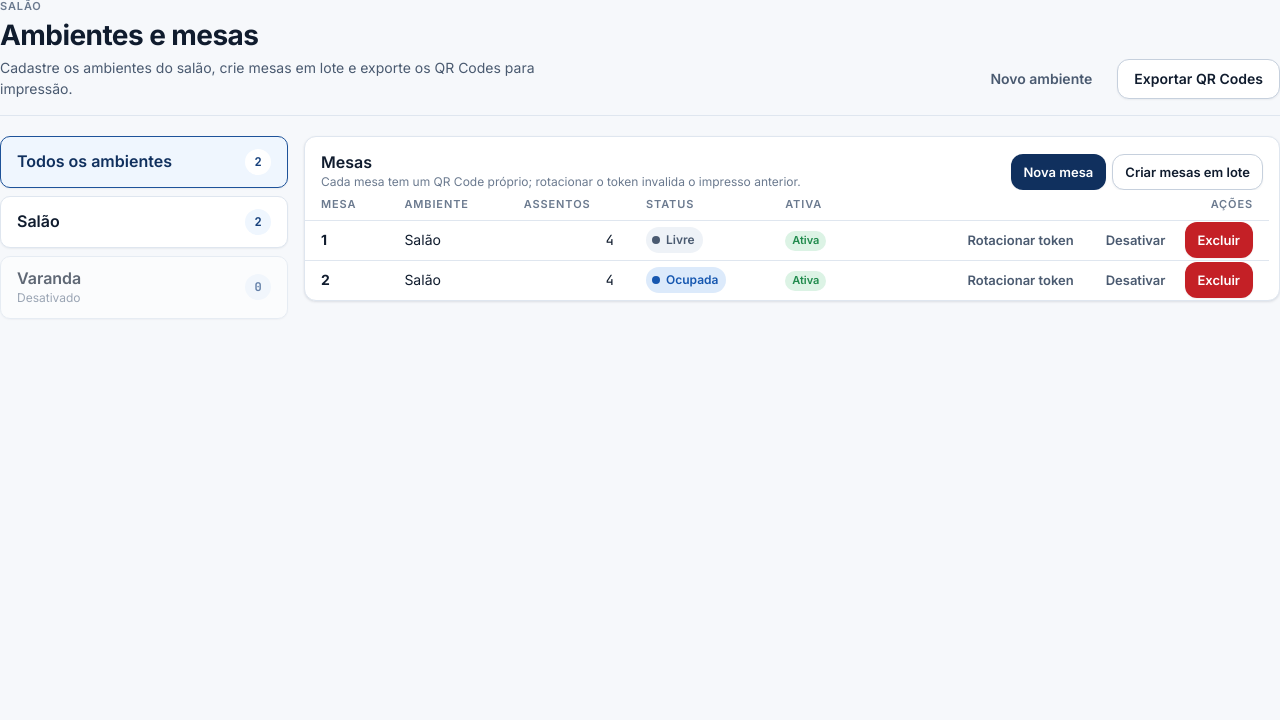
Scenario: TableManagementPage › exige confirmacao para rotacionar o token e avisa que o QR impresso precisa ser trocado
The width and height of the screenshot is (1280, 720).
Click the button "Rotacionar token" in the row of "Ocupada".
click(1020, 280)  # box [954,262,1087,298]
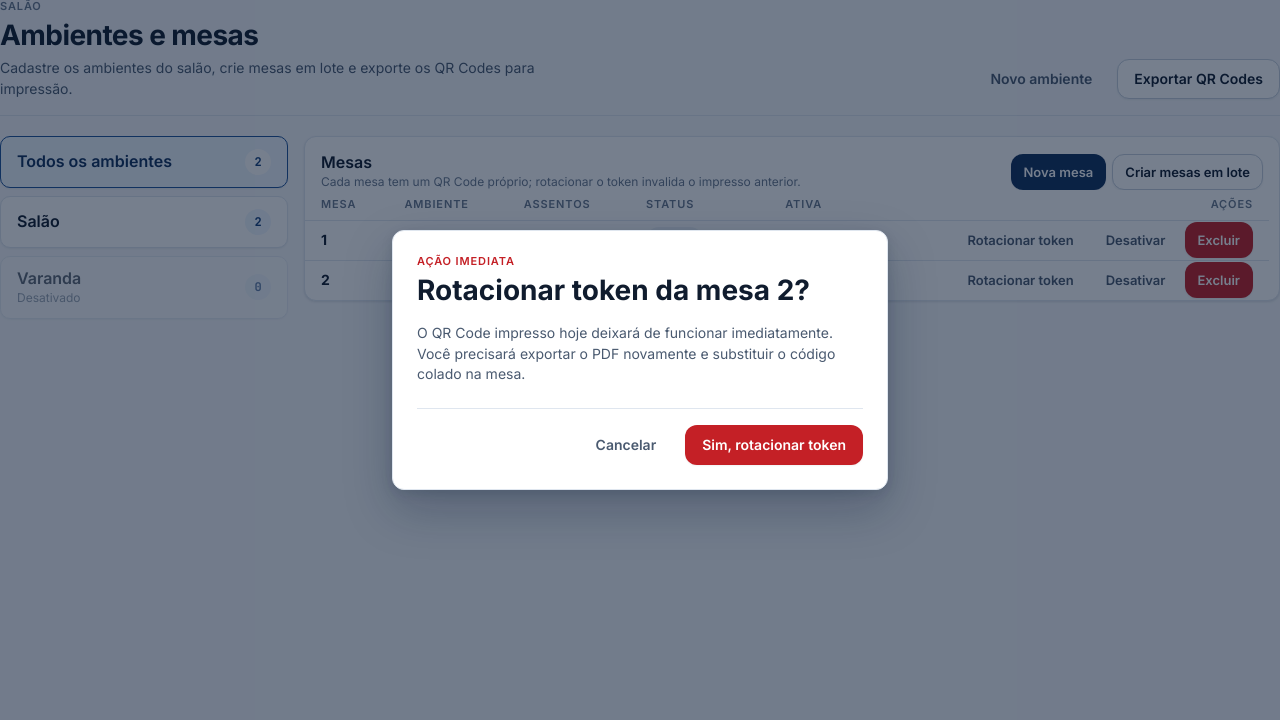
Now the text "deixará de funcionar imediatamente" is shown, box [417,324,835,382]
Click the button "Sim, rotacionar token".
click(774, 445)  # box [685,425,863,465]
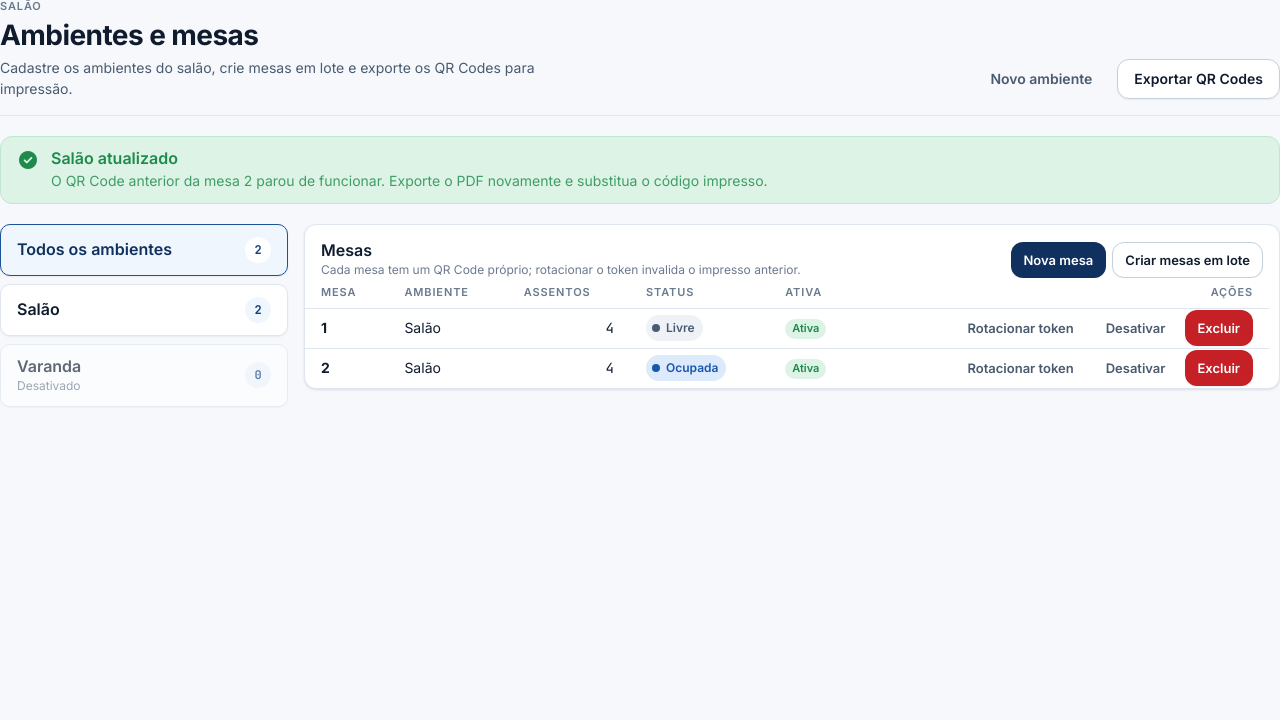
Now the text "Exporte o PDF novamente" is shown, box [51,172,768,189]
